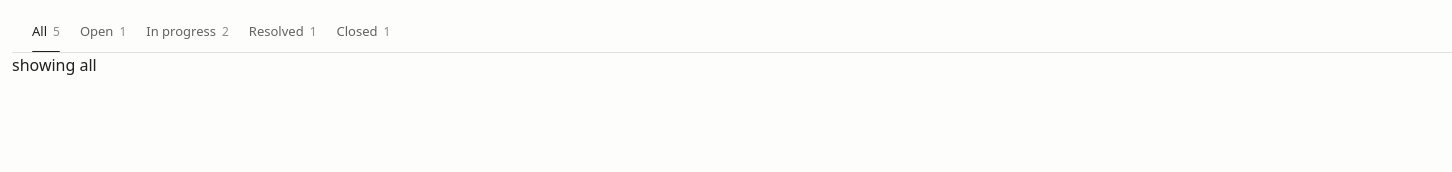
Scenario: FilterTabs › switches the filter when a tab is chosen
This screenshot has width=1452, height=172.
Click the tab "In progress 2". click: (188, 32)
box: left=146, top=12, right=229, bottom=52
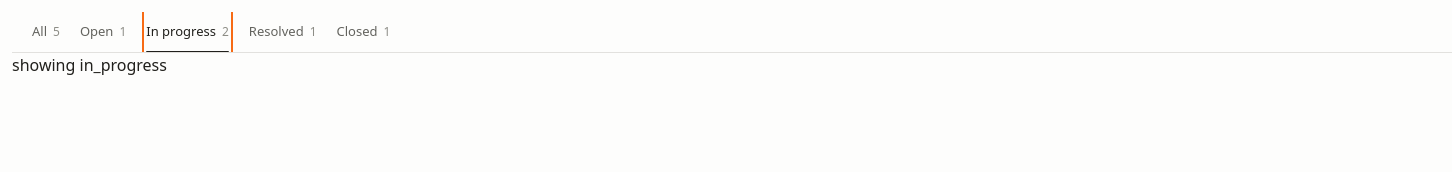
expect the text "showing in_progress" is shown: met, box left=12, top=54, right=167, bottom=76
